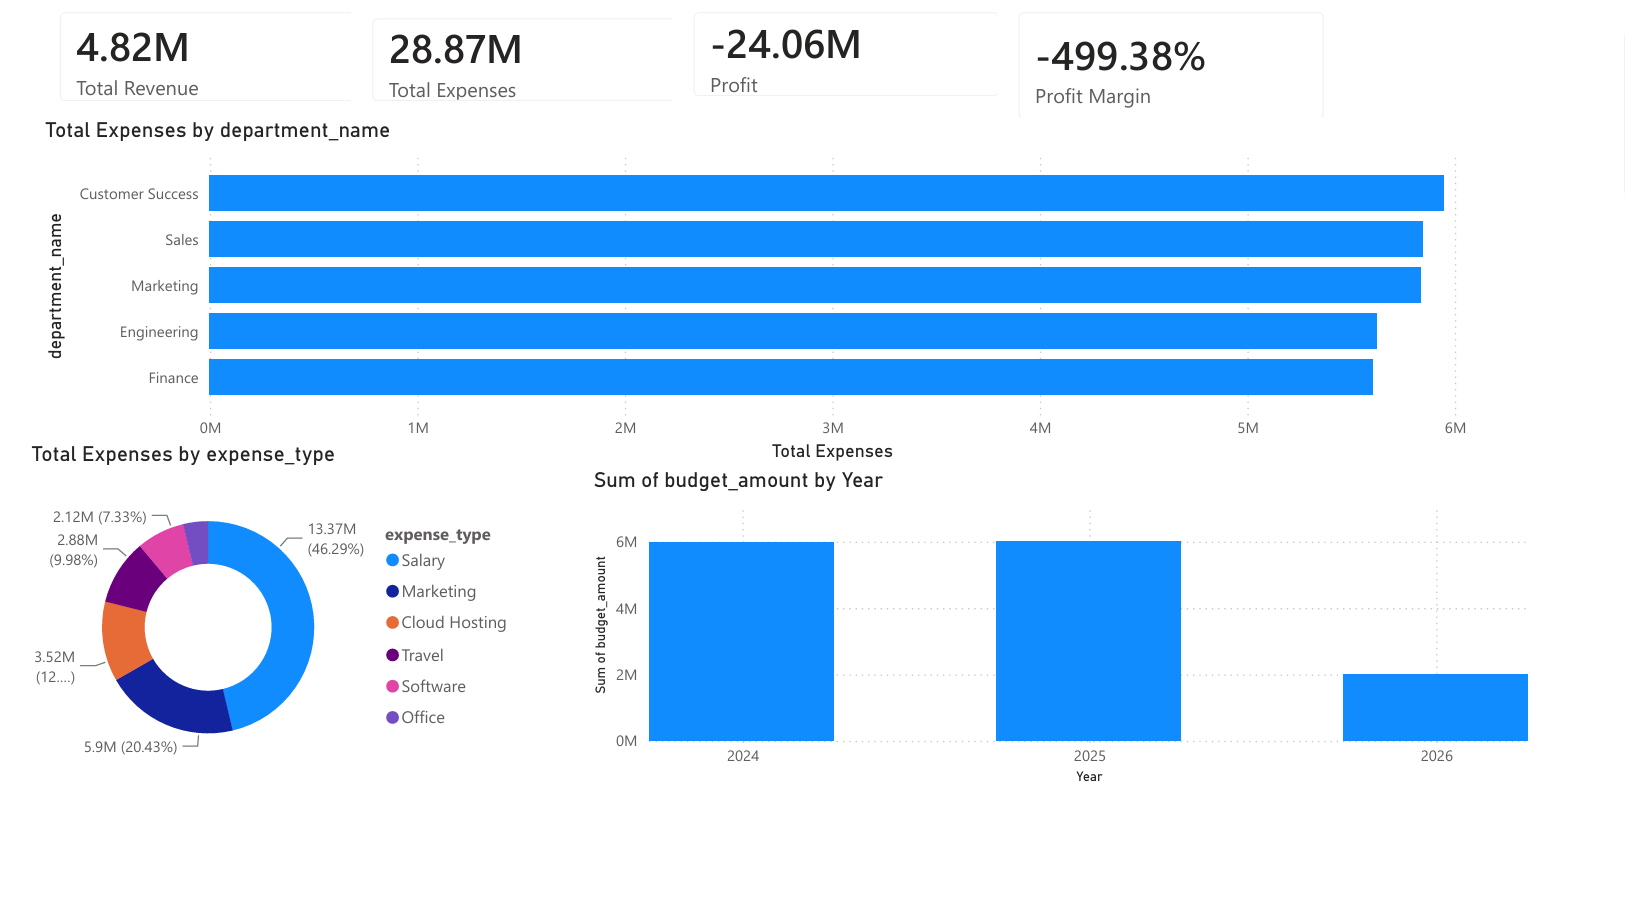

The page's visual inventory and layout, read from the dashboard file:
{"tool":"powerbi","page":{"name":"Financial Analysis","canvas":[1280,720],"ordinal":2},"visuals":[{"type":"cardVisual","fields":{"Data":["cloudcore_fpa budget.Total Revenue"]},"box":[11.3,0,279.3,105.2],"z":0},{"type":"cardVisual","fields":{"Data":["cloudcore_fpa budget.Total Expenses"]},"box":[261.2,4.5,278.2,100.6],"z":1000},{"type":"cardVisual","fields":{"Data":["cloudcore_fpa budget.Profit"]},"box":[517.9,0,278.2,100.6],"z":2000},{"type":"cardVisual","fields":{"Data":["cloudcore_fpa budget.Profit Margin"]},"box":[778,0,278.2,118.7],"z":3000},{"type":"clusteredBarChart","fields":{"Category":["cloudcore_fpa departments.department_name"],"Y":["cloudcore_fpa budget.Total Expenses"]},"box":[11.3,100.6,1146.6,280.4],"z":4000},{"type":"donutChart","fields":{"Category":["cloudcore_fpa expenses.expense_type"],"Y":["cloudcore_fpa budget.Total Expenses"]},"box":[0,359.6,400.3,279.3],"z":5000},{"type":"lineClusteredColumnComboChart","fields":{"Category":["cloudcore_fpa budget.budget_month.Variation.Date Hierarchy.Year","cloudcore_fpa budget.budget_month.Variation.Date Hierarchy.Quarter","cloudcore_fpa budget.budget_month.Variation.Date Hierarchy.Month"],"Y":["Sum(cloudcore_fpa budget.budget_amount)"]},"box":[450,381.1,757.6,257.8],"z":6000}]}

Visuals, with their boxes in screenshot pixels (x1, y1, x2, y2), scaled from the page's 1280x720 canvas onto the 1647x912 screenshot:
cardVisual - cloudcore_fpa budget.Total Revenue: {"x1": 15, "y1": 0, "x2": 374, "y2": 133}
cardVisual - cloudcore_fpa budget.Total Expenses: {"x1": 336, "y1": 6, "x2": 694, "y2": 133}
cardVisual - cloudcore_fpa budget.Profit: {"x1": 666, "y1": 0, "x2": 1024, "y2": 127}
cardVisual - cloudcore_fpa budget.Profit Margin: {"x1": 1001, "y1": 0, "x2": 1359, "y2": 150}
clusteredBarChart - cloudcore_fpa departments.department_name x cloudcore_fpa budget.Total Expenses: {"x1": 15, "y1": 127, "x2": 1490, "y2": 483}
donutChart - cloudcore_fpa expenses.expense_type x cloudcore_fpa budget.Total Expenses: {"x1": 0, "y1": 455, "x2": 515, "y2": 809}
lineClusteredColumnComboChart - cloudcore_fpa budget.budget_month.Variation.Date Hierarchy.Year x cloudcore_fpa budget.budget_month.Variation.Date Hierarchy.Quarter: {"x1": 579, "y1": 483, "x2": 1554, "y2": 809}
